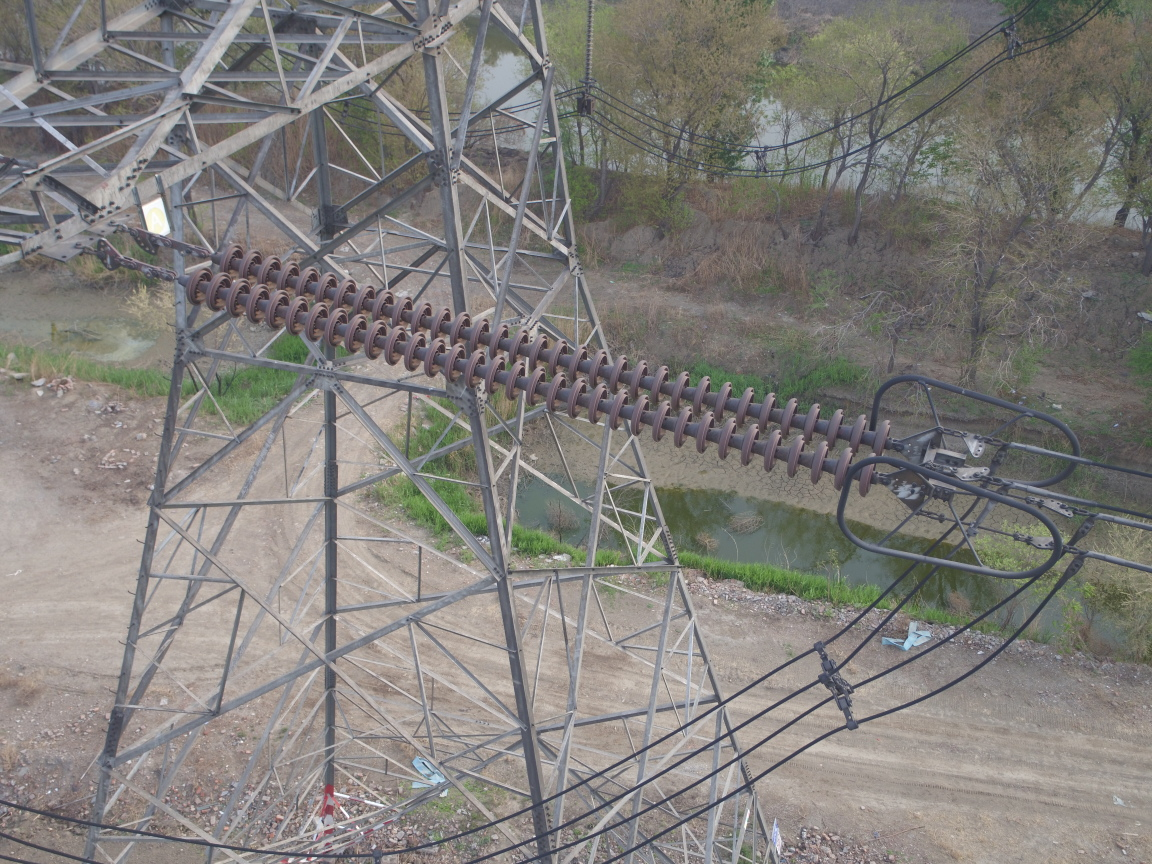insulator: (140, 240, 913, 499)
